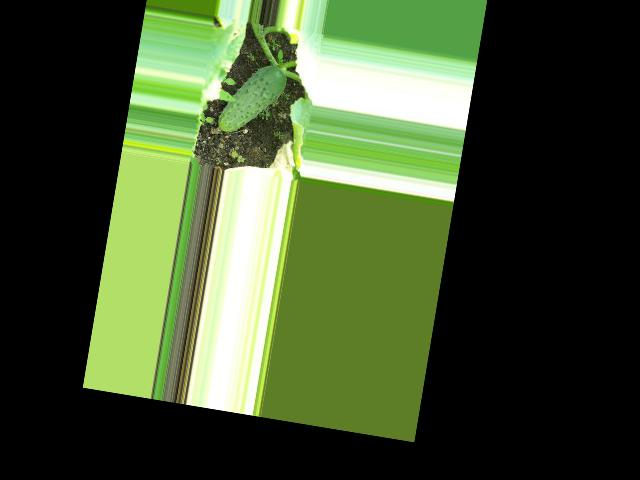cucumber: (216, 57, 289, 140)
